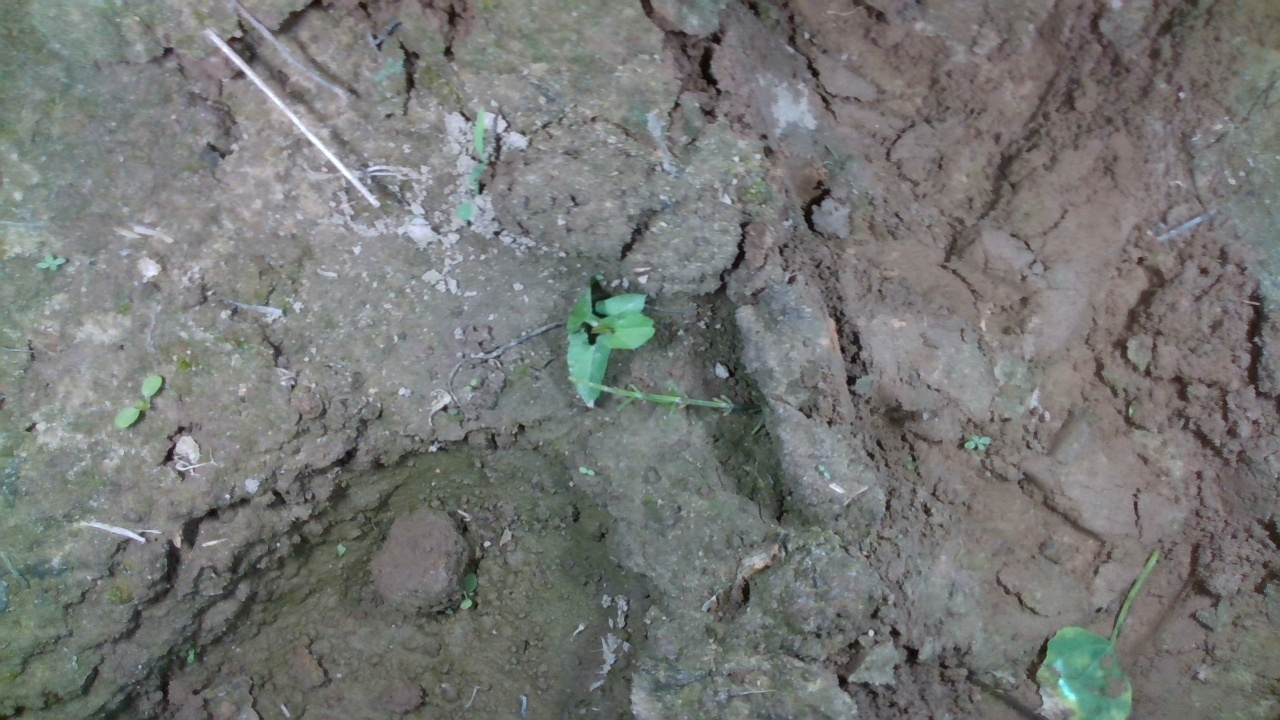weed: (117, 369, 174, 428), (957, 430, 995, 453)
